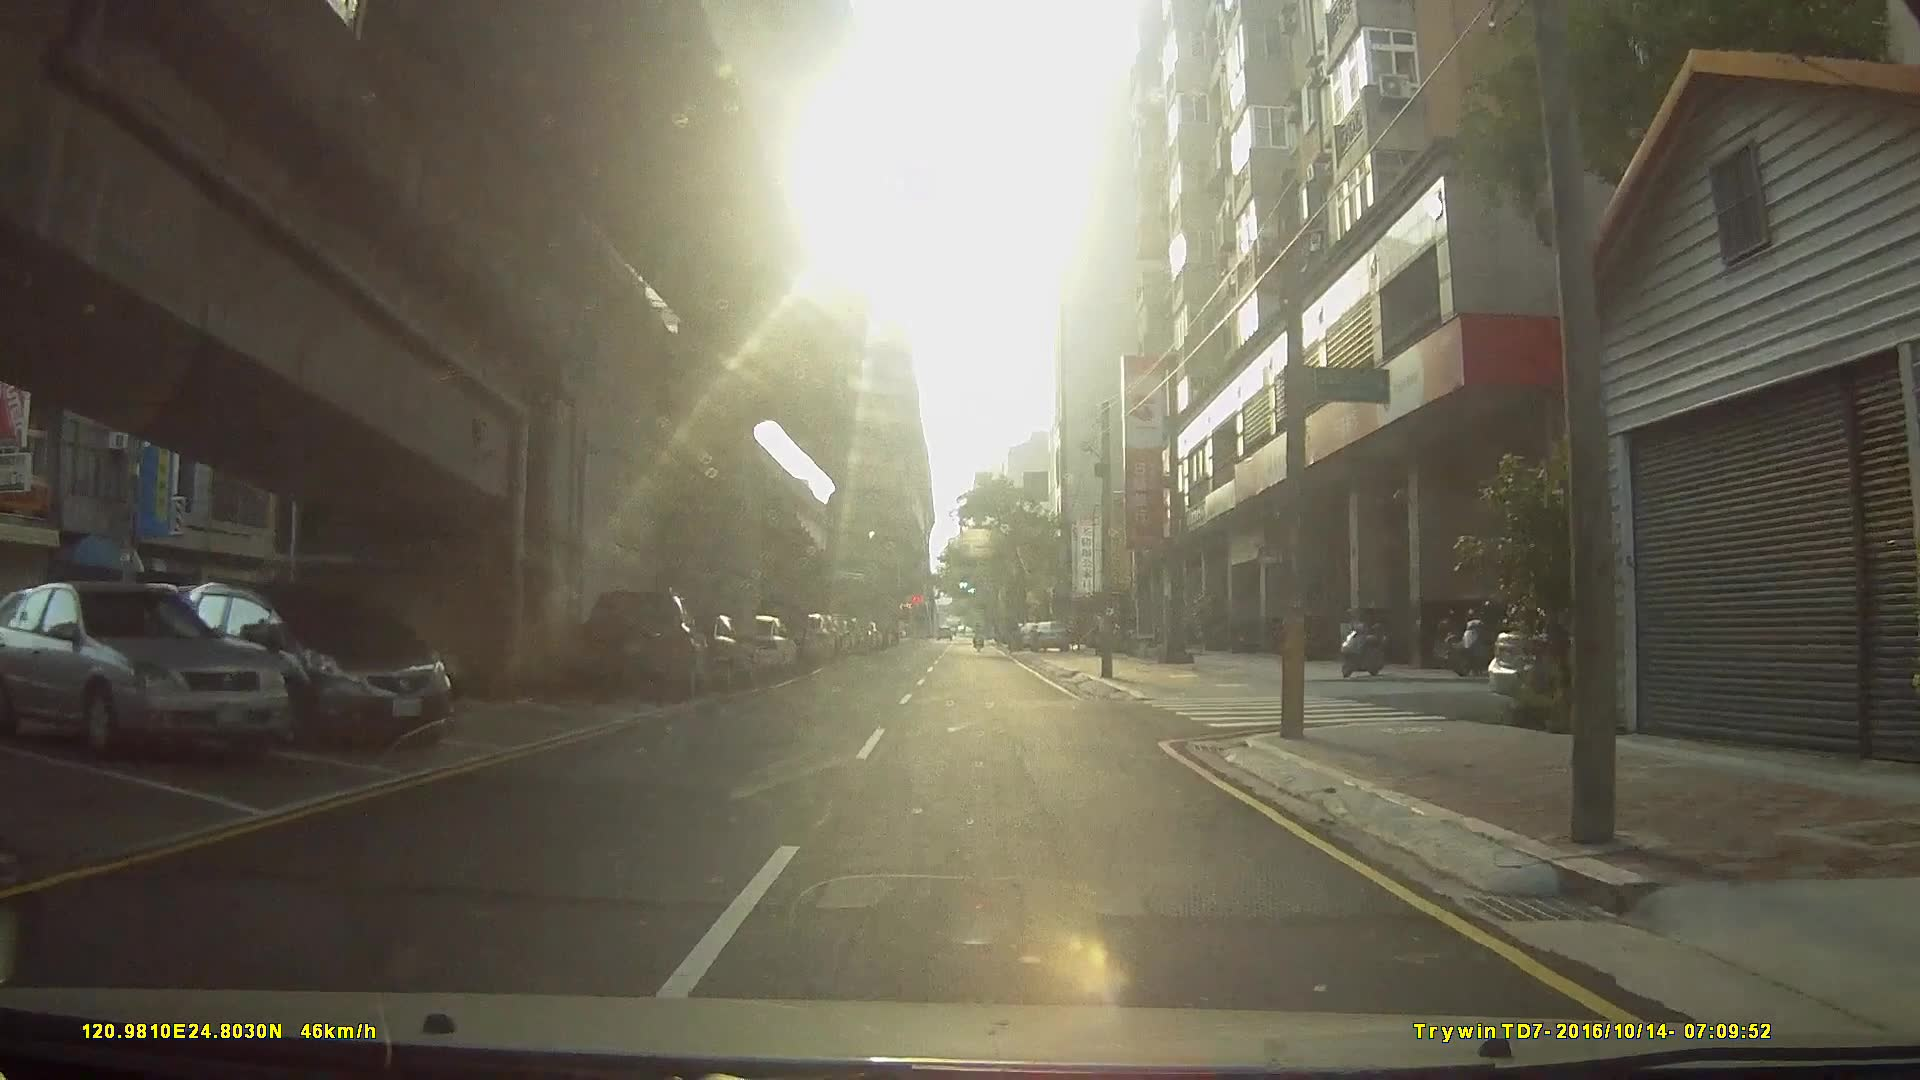vehicle: (0, 582, 287, 760), (173, 578, 454, 748), (574, 588, 713, 699), (1029, 618, 1068, 654)
